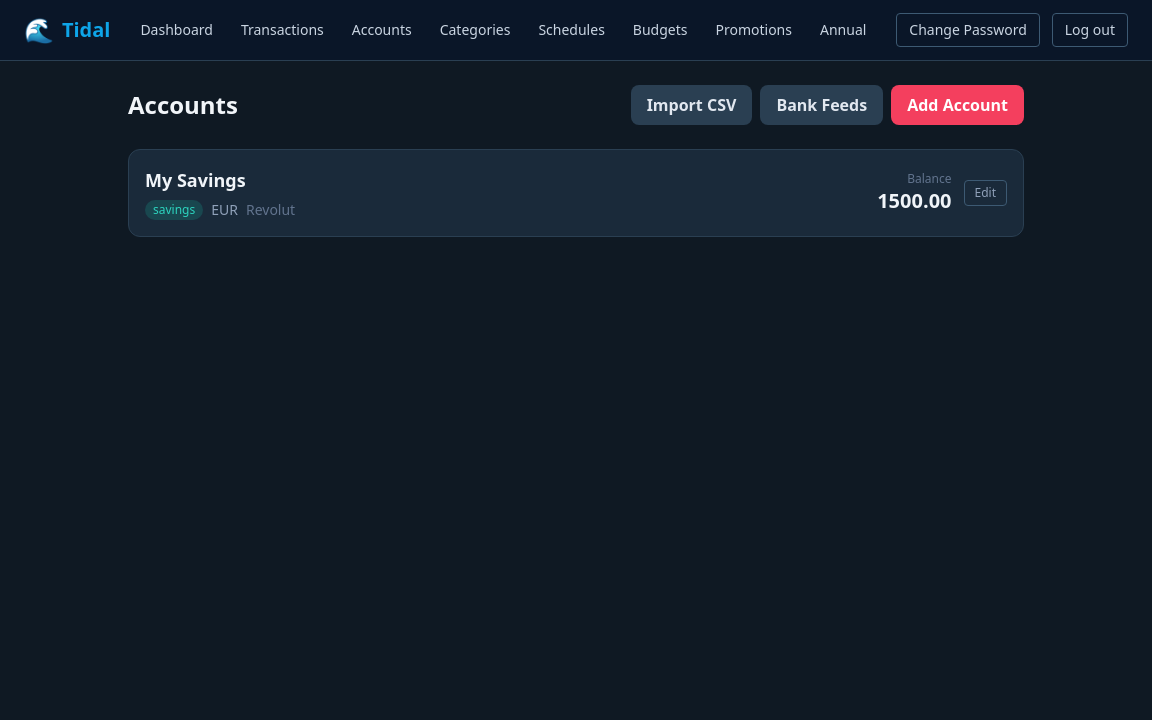
Scenario: AccountsPage › clicking Edit opens AddAccountForm pre-populated with the account values
Expected: the text "My Savings" is shown, [145, 168, 246, 192]
Click the button "edit " at coordinates (985, 193), box [964, 180, 1007, 206]
(page scrolled)
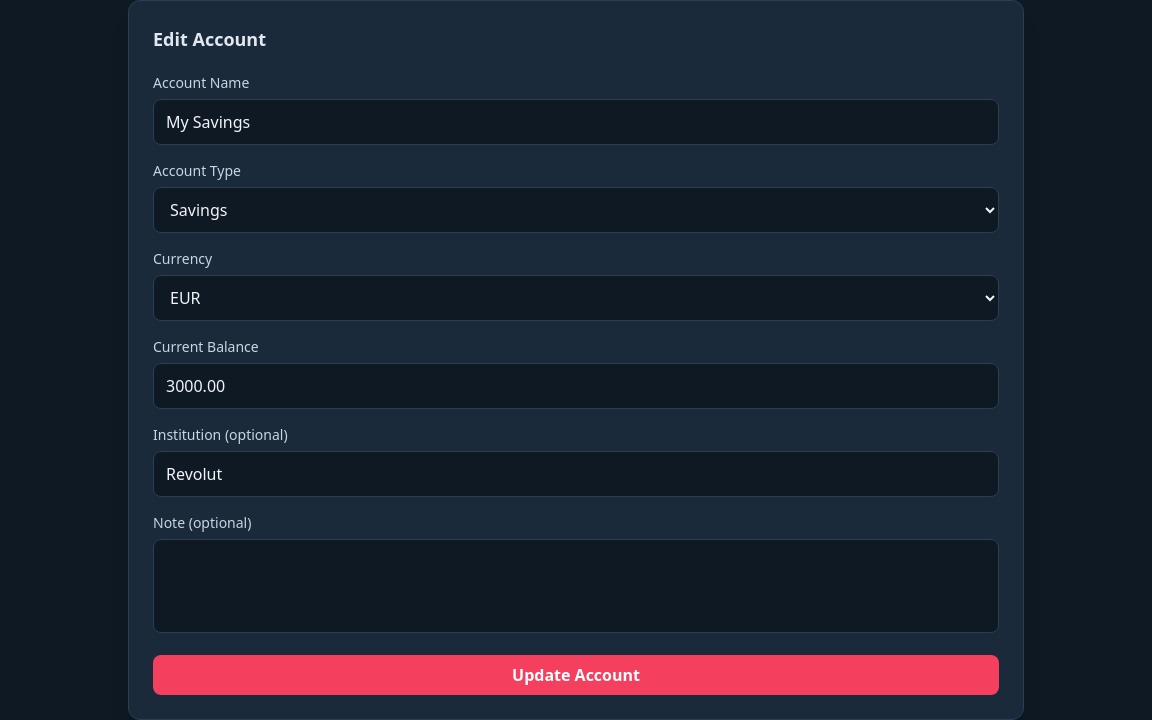
Now the field labelled "Account Name" holds "My Savings", box [153, 99, 999, 145]
Now the dropdown labelled "Account Type" shows "Savings", box [153, 187, 999, 233]
Now the dropdown labelled "Currency" shows "EUR", box [153, 275, 999, 321]
